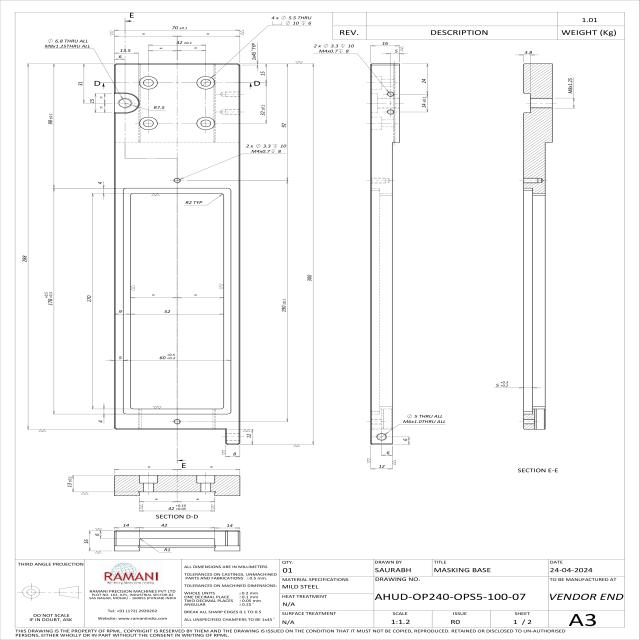dimension: (44, 36, 92, 48), (401, 413, 447, 425), (245, 142, 288, 154), (271, 14, 313, 26), (312, 43, 356, 54), (166, 503, 188, 511), (43, 291, 54, 306), (250, 43, 257, 61), (158, 353, 176, 360), (280, 298, 288, 313), (46, 112, 54, 125), (171, 24, 188, 30), (176, 40, 193, 46), (494, 381, 510, 387), (420, 96, 428, 108), (567, 78, 573, 94), (184, 200, 203, 205), (259, 105, 267, 116), (153, 105, 166, 111), (120, 48, 132, 54), (66, 476, 72, 488), (21, 255, 28, 263), (85, 294, 92, 302), (523, 50, 533, 55), (306, 274, 312, 282), (244, 432, 252, 438), (377, 464, 386, 469), (77, 81, 84, 87), (280, 122, 287, 128), (82, 539, 89, 545), (420, 78, 427, 84), (163, 309, 171, 314), (122, 523, 130, 528), (163, 547, 171, 552), (260, 70, 266, 76), (88, 98, 95, 103), (160, 523, 168, 527), (381, 41, 389, 45), (117, 309, 123, 314), (385, 450, 391, 455), (226, 523, 233, 527), (118, 54, 123, 59), (97, 180, 103, 184), (118, 355, 124, 359), (232, 452, 238, 456), (94, 533, 100, 537), (394, 48, 399, 52), (402, 438, 408, 441), (97, 420, 103, 422)
